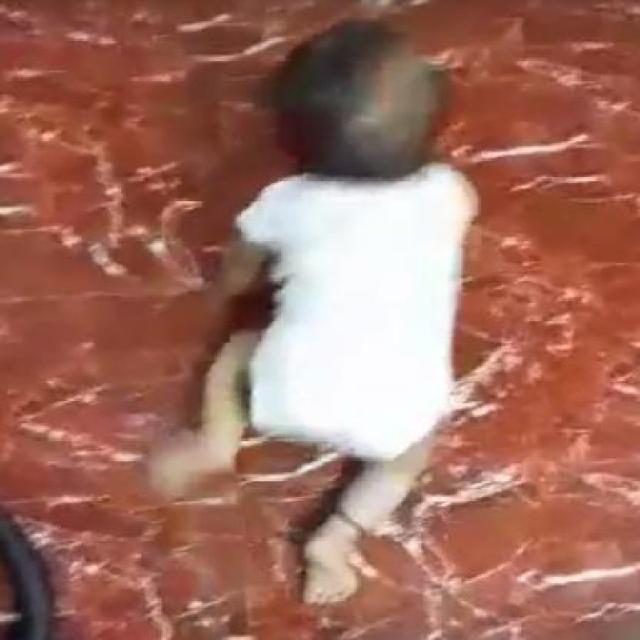non-dog: (136, 17, 482, 608)
